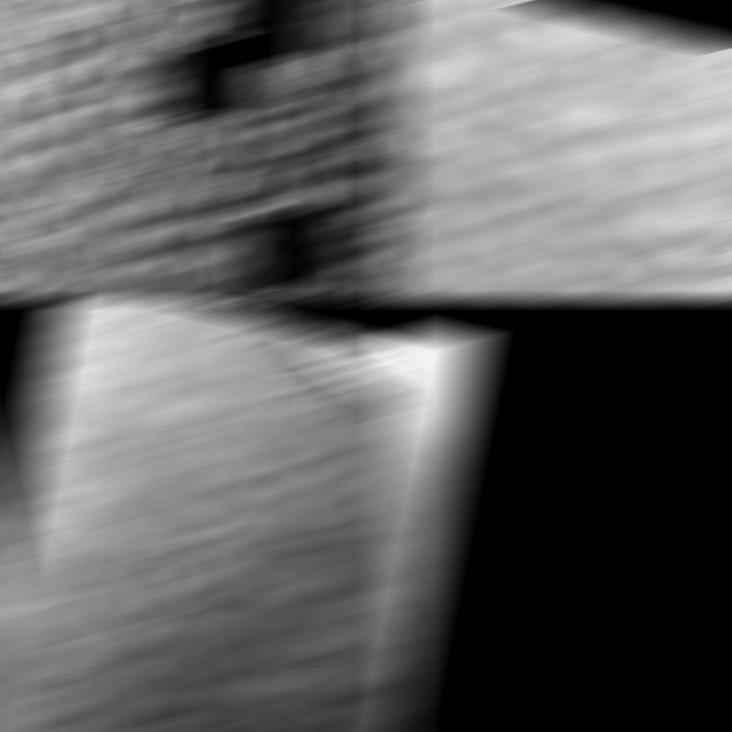Airbag: (0, 302, 404, 729), (0, 2, 404, 297), (385, 2, 732, 297), (385, 303, 485, 729)
